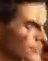kevin: (2, 0, 43, 60)
